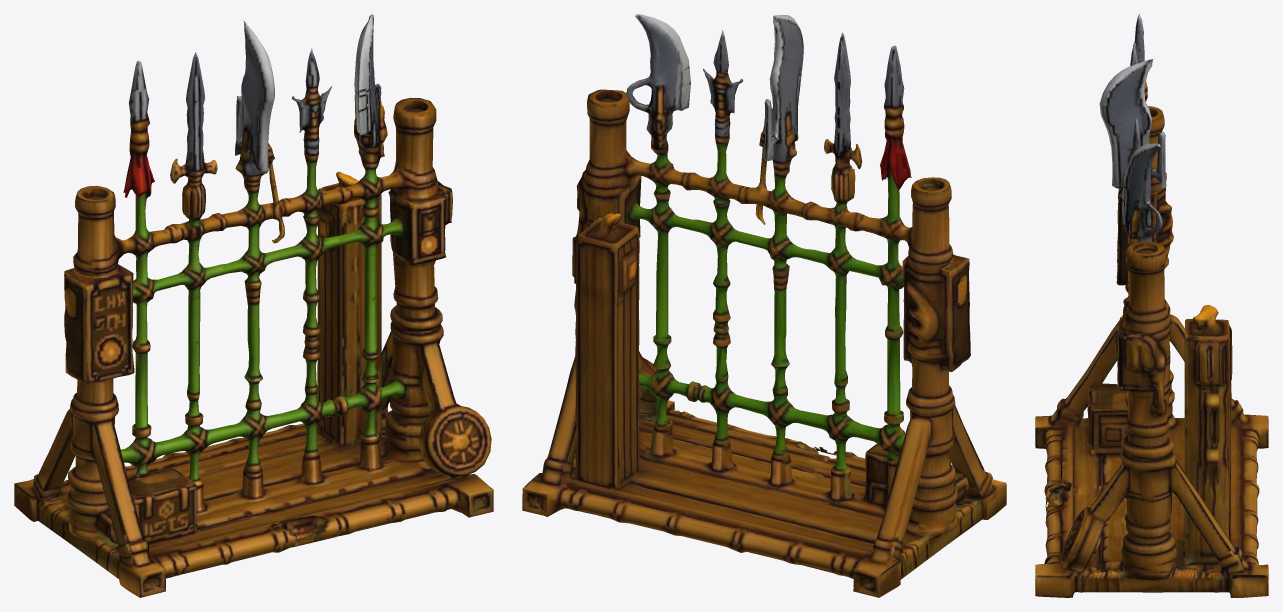
Rendered from WeaponRack.glb.
The picture shows the model from 3 angles, left to right: view 1: azimuth 30°, elevation 25°; view 2: azimuth 150°, elevation 25°; view 3: azimuth 270°, elevation 25°; orthographic projection. The views are drawn at different scales.
Size of the model in its own units: 1.57 by 1.91 by 0.8885.
1 material, 1 textured.
